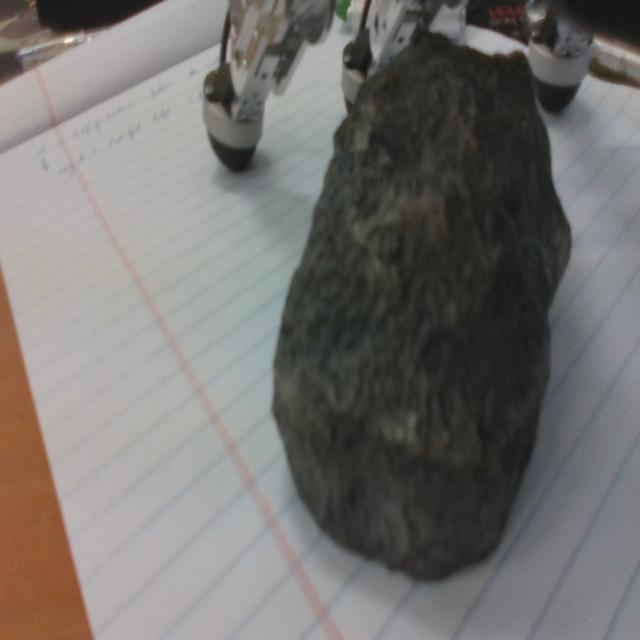stone: (271, 33, 573, 580)
